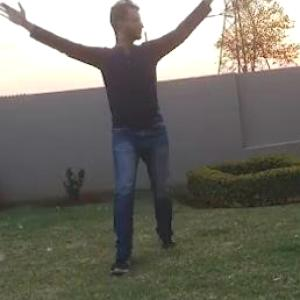takeoff: (1, 0, 212, 263)
